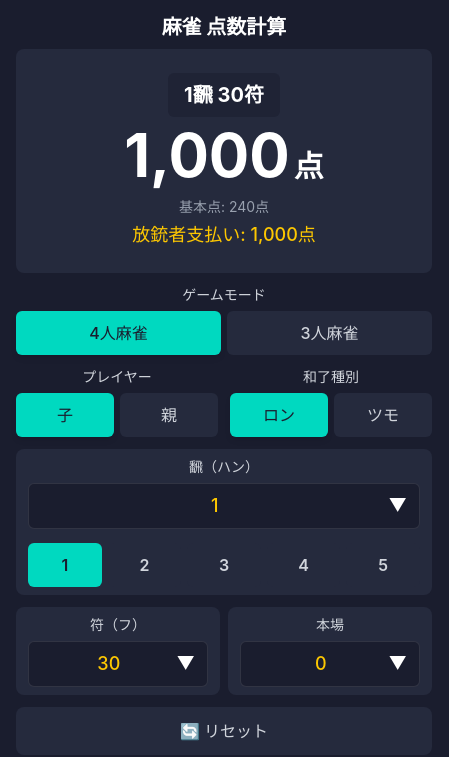
Scenario: 親/子の切り替え
親ボタンをクリック
Click the button "親" at [169, 415], box [120,393,218,437]
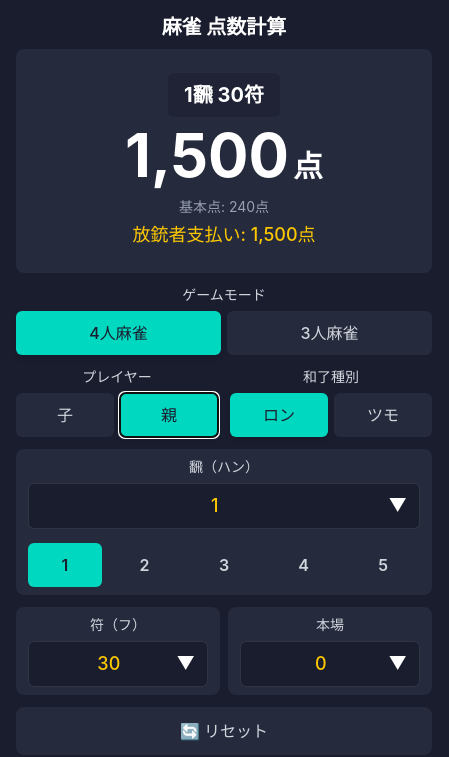
Expected: the text "放銃者支払い: 1,500点" is shown, [132,224,316,245]
